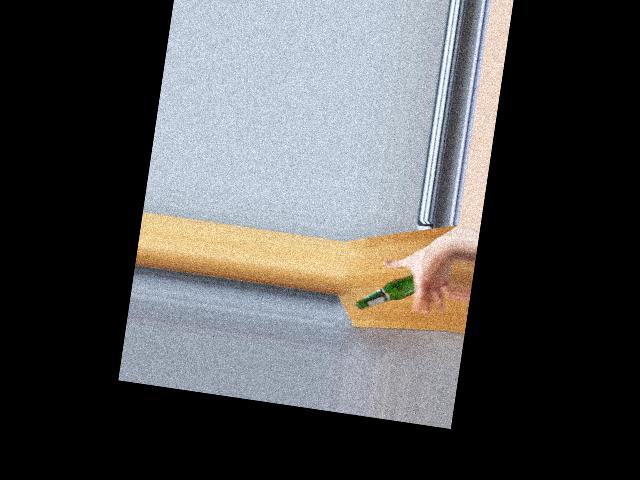beer: (354, 266, 416, 316)
